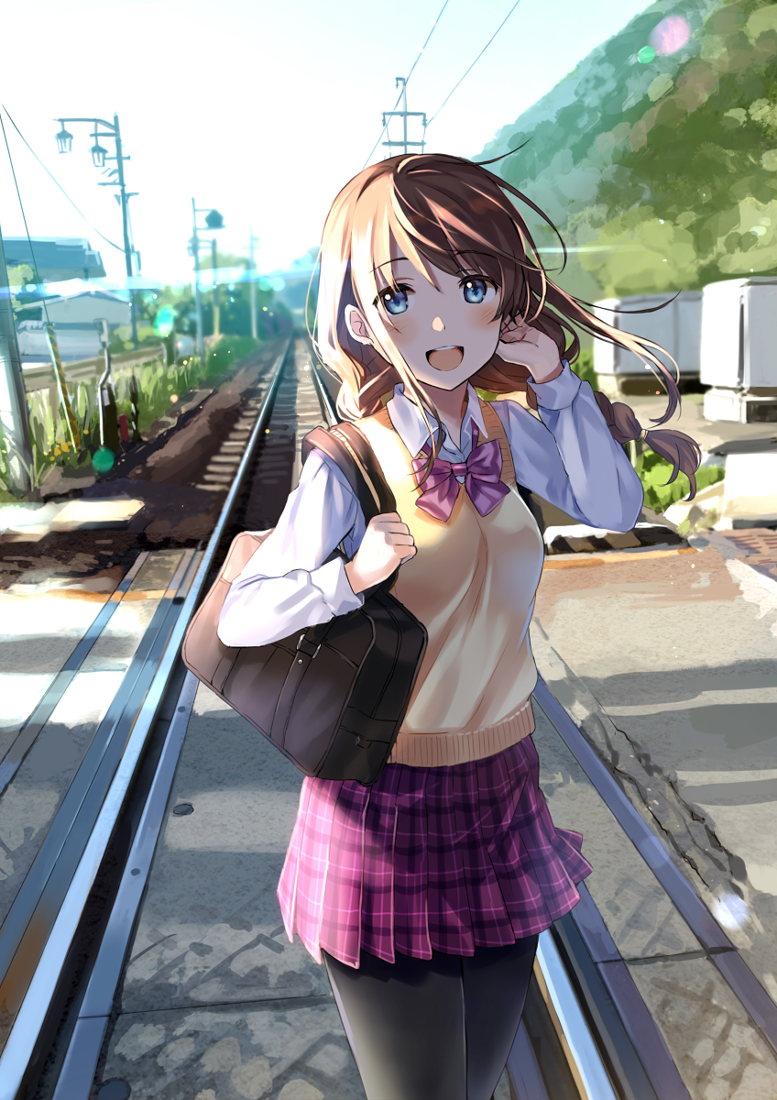纸片人正脸: (306, 147, 548, 402)
